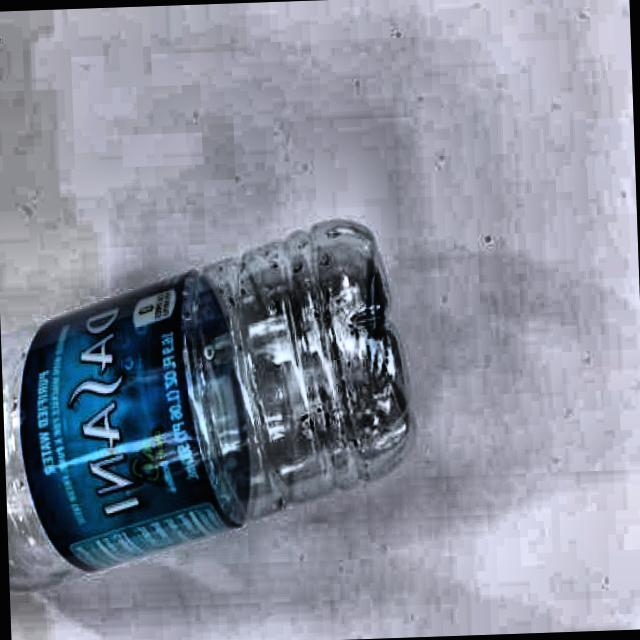plastic bottle: (2, 222, 412, 585)
